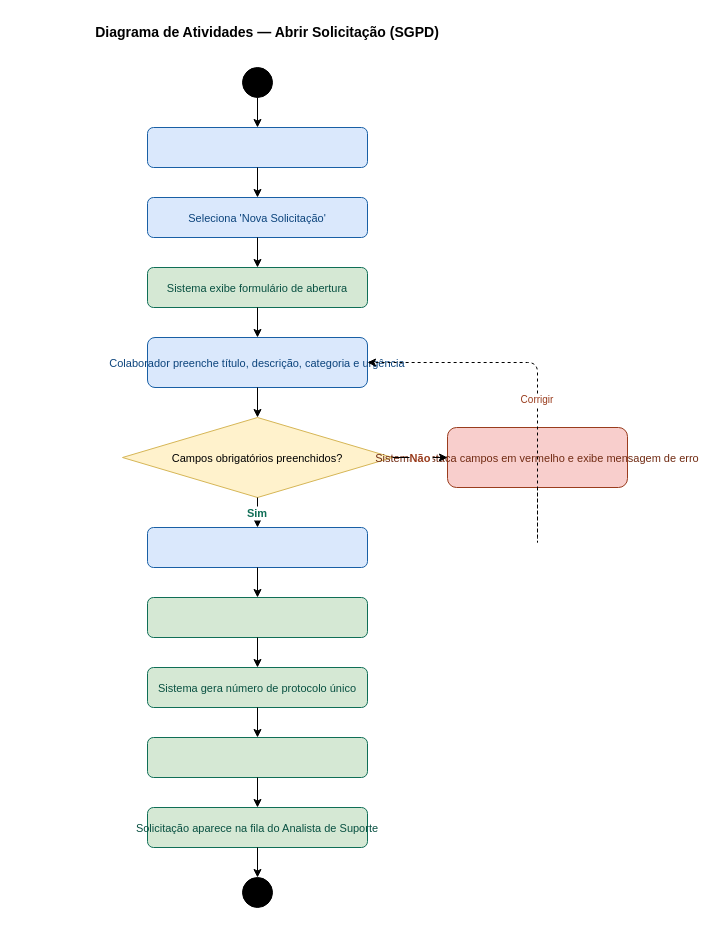
The diagram is 716 pixels wide and 925 high, and some of its shapes have lost their labels. Each missing label, with the centre of its shape:
"Colaborador acessa o SGPD" goes at point (257, 147).
"Colaborador clica em 'Enviar Solicitação'" goes at point (257, 547).
"Sistema notifica Colaborador e Analista de Suporte" goes at point (257, 757).
"Sistema valida e registra a solicitação" goes at point (257, 617).
